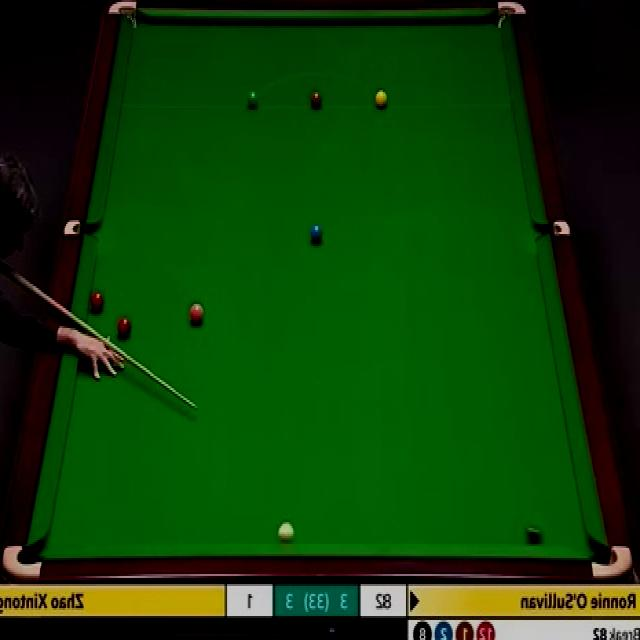pocket: (591, 543, 634, 585), (3, 543, 46, 582), (110, 0, 139, 32), (497, 0, 527, 28), (535, 220, 573, 234), (66, 220, 100, 235)
